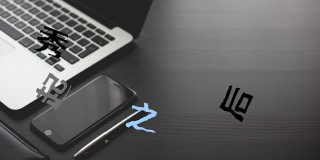之: (125, 102, 161, 135)
后: (219, 85, 252, 122)
秀: (34, 25, 68, 60)
起: (33, 72, 73, 110)
